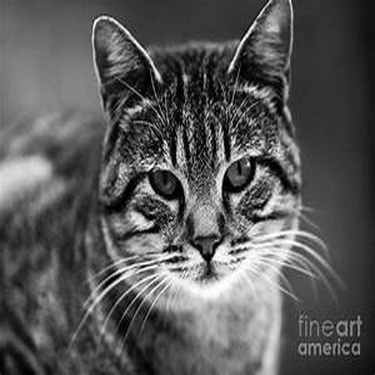cat: (36, 1, 319, 371)
